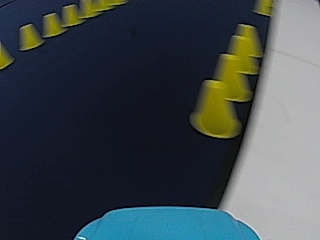cone: (196, 61, 248, 123), (189, 78, 239, 138), (210, 53, 250, 101), (225, 25, 262, 74), (18, 23, 43, 50), (42, 13, 61, 37), (61, 4, 78, 26)
